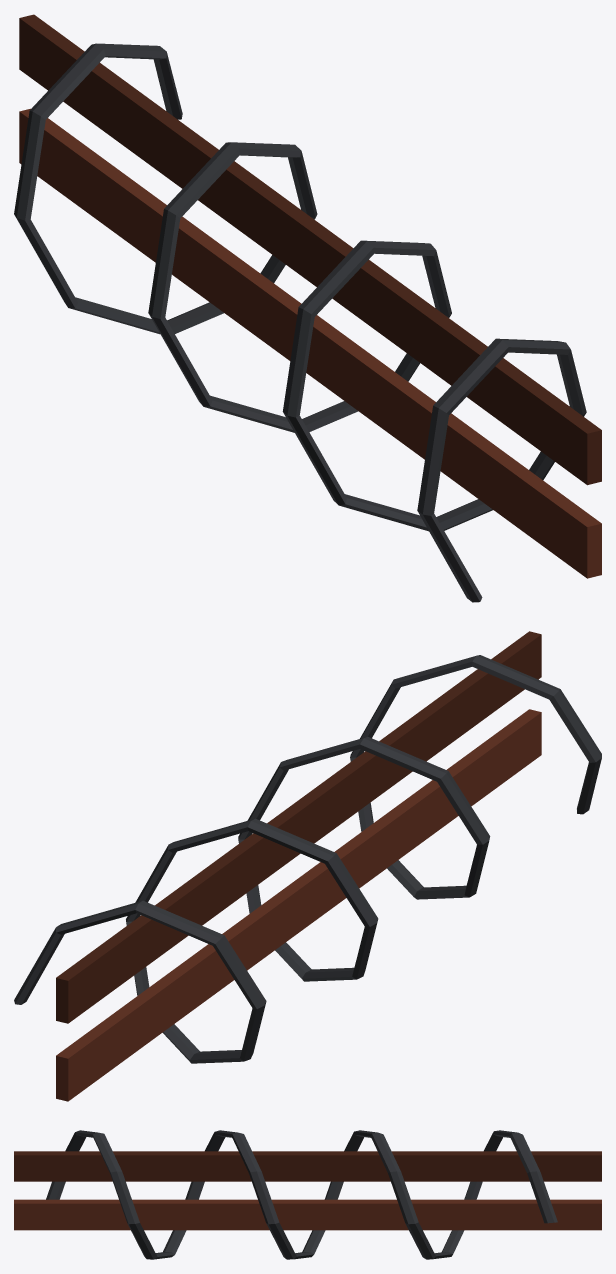
Rendered from SM_Barriers_14.fbx.
The picture shows the model from 3 angles, top to bottom: view 1: azimuth 30°, elevation 25°; view 2: azimuth 150°, elevation 25°; view 3: azimuth 270°, elevation 25°; orthographic projection. The views are drawn at different scales.
Parts seen in each view (by area): view 1: SM_Barriers_14; view 2: SM_Barriers_14; view 3: SM_Barriers_14.
Part boxes in pixels (x1=…): SM_Barriers_14: x1=14, y1=14, x2=601, y2=602; SM_Barriers_14: x1=14, y1=631, x2=601, y2=1101; SM_Barriers_14: x1=14, y1=1130, x2=601, y2=1259.
Bounding box in the file's own units: 46.89 × 46.88 × 200.
